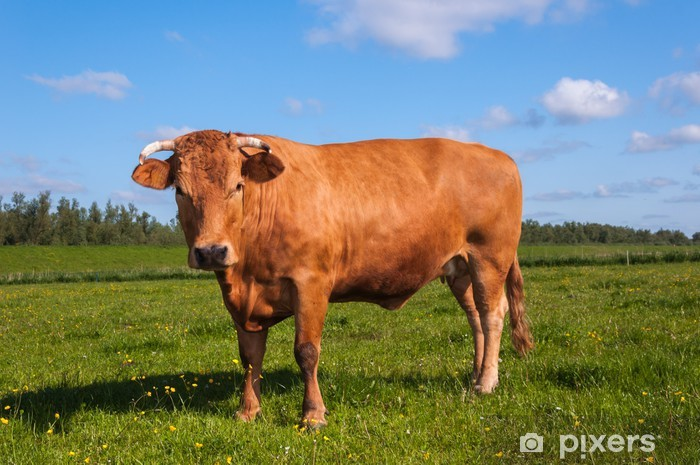cow: (117, 116, 525, 439)
